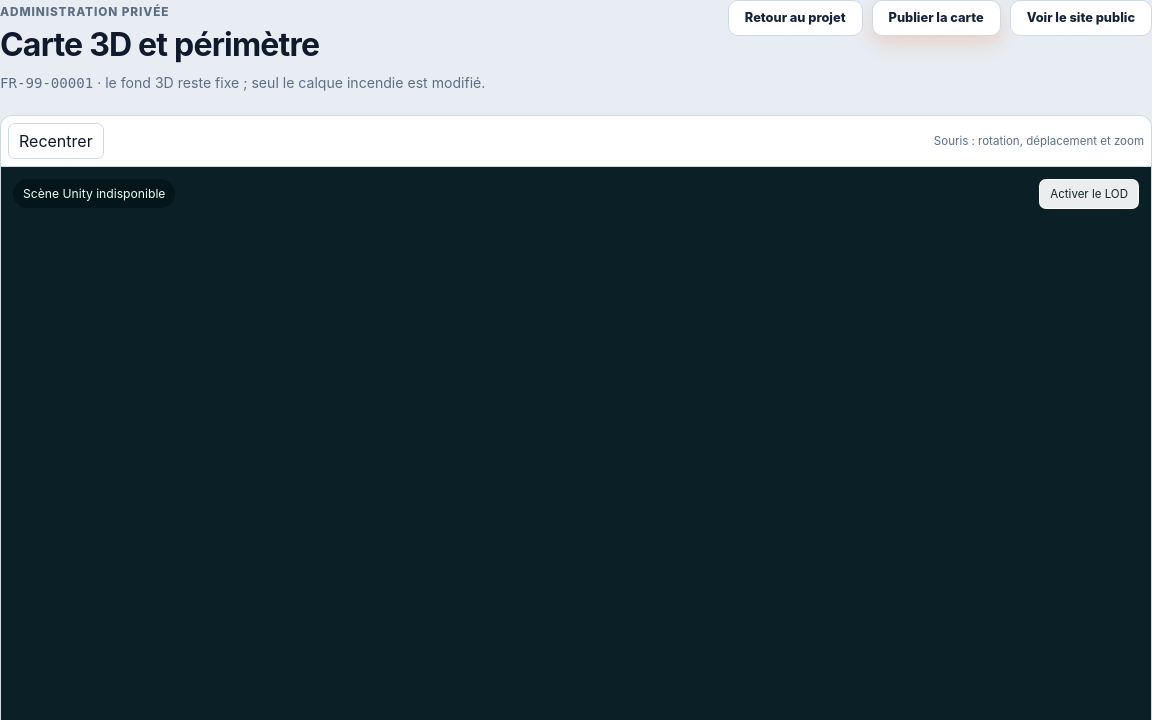
Scenario: outils de revue spatiale 3D › publie la carte depuis le projet sans demander de zone ni de révision à l’opérateur
Step 1. Click the button "Publier la carte" → [936, 18], box [872,0,1001,36]
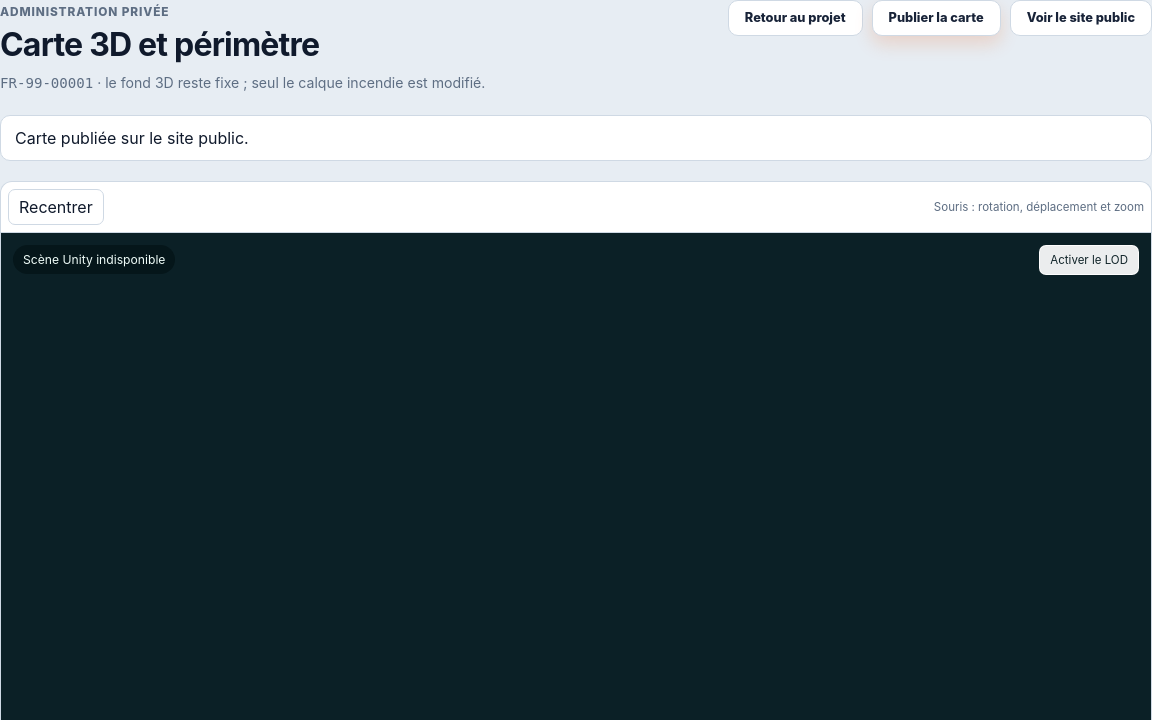
Result: the text "Carte publiée sur le site public." is shown at [0,115,1151,161]
